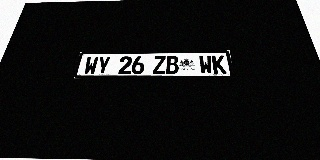plate: (74, 50, 234, 78)
